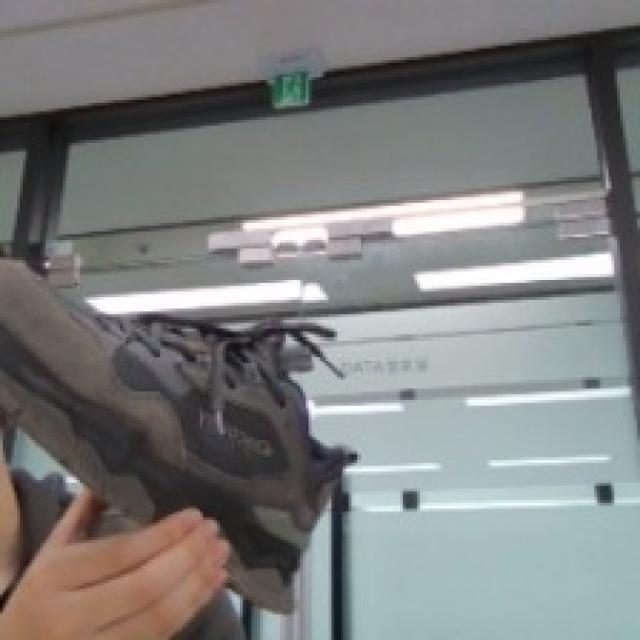shoe: (0, 256, 355, 612)
